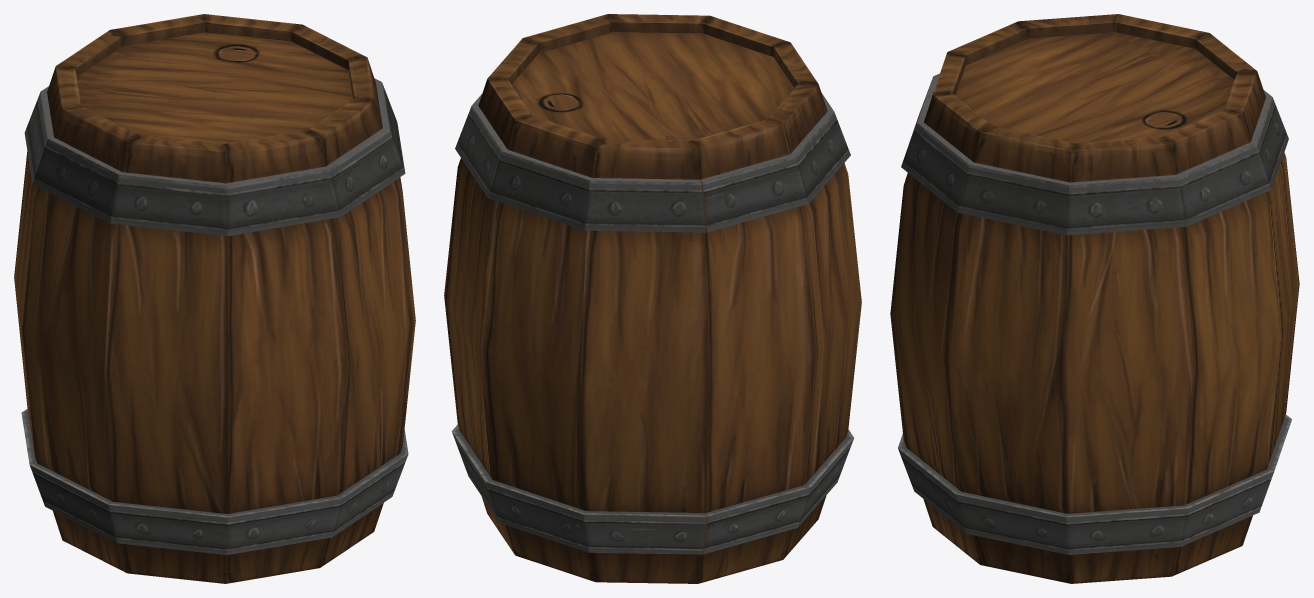
The model's file is modelBarrel.fbx.
3 renders of one model, left to right at view 1: azimuth 30°, elevation 25°; view 2: azimuth 150°, elevation 25°; view 3: azimuth 270°, elevation 25°, orthographic.
Visible parts, largest first — view 1: modelBarrel; view 2: modelBarrel; view 3: modelBarrel.
Part boxes in pixels (left/top/right/bottom): modelBarrel: left=14, top=14, right=415, bottom=583; modelBarrel: left=444, top=14, right=861, bottom=583; modelBarrel: left=890, top=14, right=1299, bottom=583.
Size of the model in its own units: 11.41 by 13.24 by 11.36.
